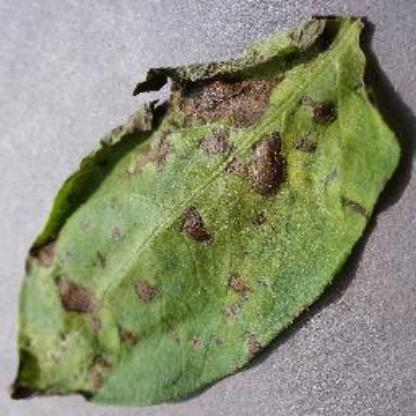Early-Blight: (23, 14, 408, 406)
